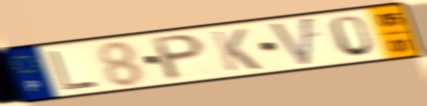0: (329, 14, 375, 59)
8: (96, 39, 147, 88)
K: (209, 27, 264, 73)
L: (46, 48, 101, 92)
P: (150, 32, 206, 83)
V: (267, 15, 316, 69)
